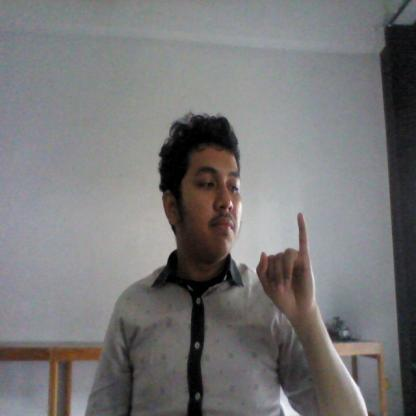I: (254, 208, 318, 326)
